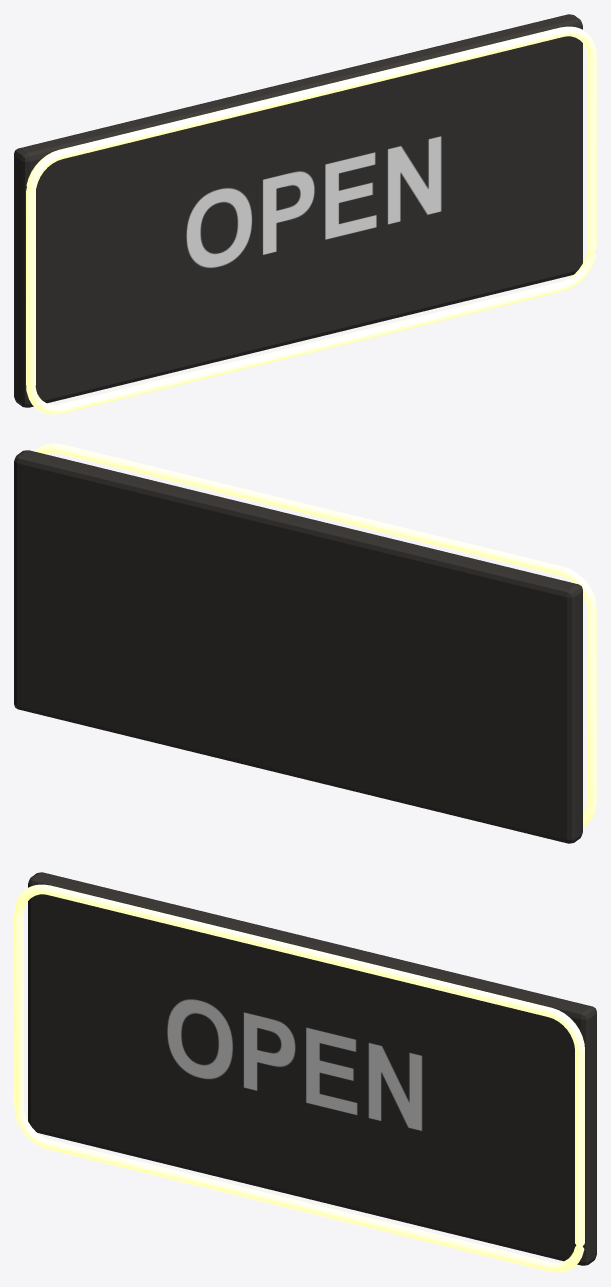
Rendered from MS_AT_10_NeonRectangle.glb.
3 renders of one model, top to bottom at view 1: azimuth 30°, elevation 25°; view 2: azimuth 150°, elevation 25°; view 3: azimuth 330°, elevation 25°, orthographic.
Parts seen in each view (by area): view 1: SignBacking.002, NeonTube, ReplaceableGraphic; view 2: SignBacking.002, NeonTube; view 3: SignBacking.002, NeonTube, ReplaceableGraphic.
Part boxes in pixels (left/top/right/bottom): SignBacking.002: left=14, top=14, right=582, bottom=407; NeonTube: left=26, top=26, right=596, bottom=414; ReplaceableGraphic: left=186, top=136, right=441, bottom=267; SignBacking.002: left=14, top=450, right=582, bottom=843; NeonTube: left=34, top=443, right=596, bottom=827; SignBacking.002: left=28, top=872, right=596, bottom=1265; NeonTube: left=14, top=884, right=584, bottom=1272; ReplaceableGraphic: left=167, top=999, right=422, bottom=1130.
Size of the model in its own units: 1.52 by 0.674 by 0.107.
Materials: 3 (1 with a texture image).
